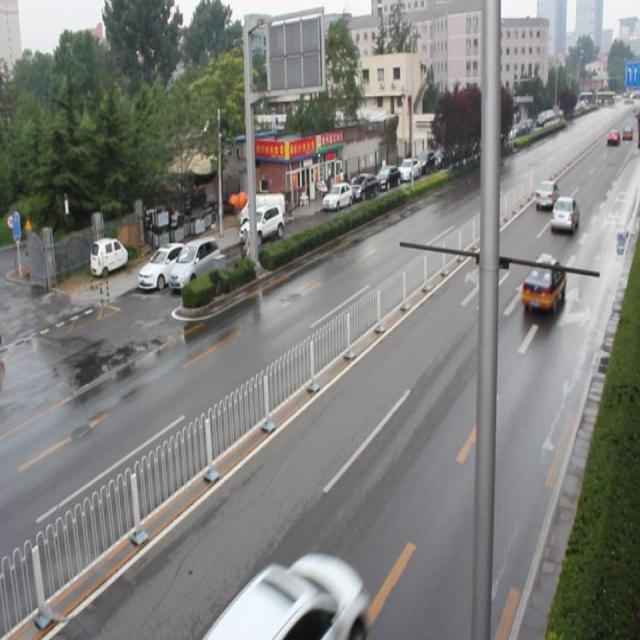car: (212, 553, 366, 640), (518, 251, 565, 313), (549, 196, 578, 231), (533, 178, 558, 210)
